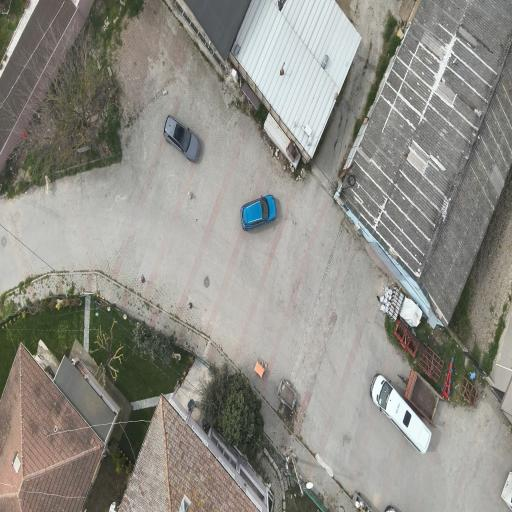car: (370, 375, 430, 453), (163, 116, 199, 162), (240, 195, 275, 230), (501, 472, 512, 510)
